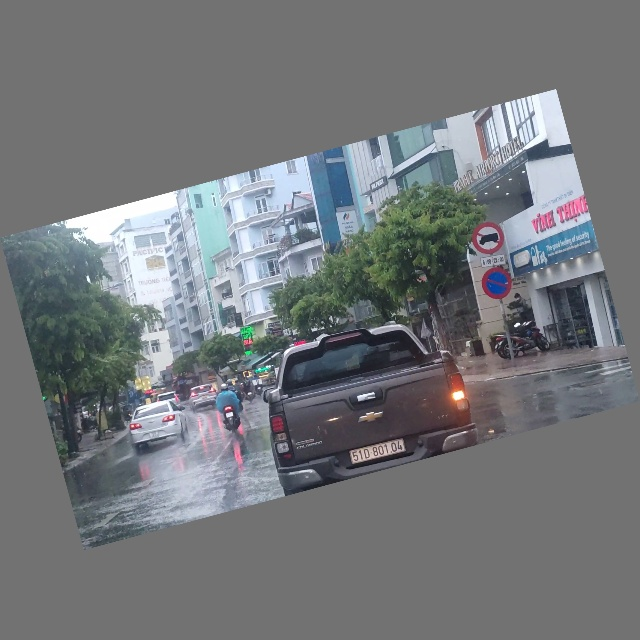P.106a*Xe tai: (470, 221, 507, 258)
P.131a: (478, 264, 515, 304)
